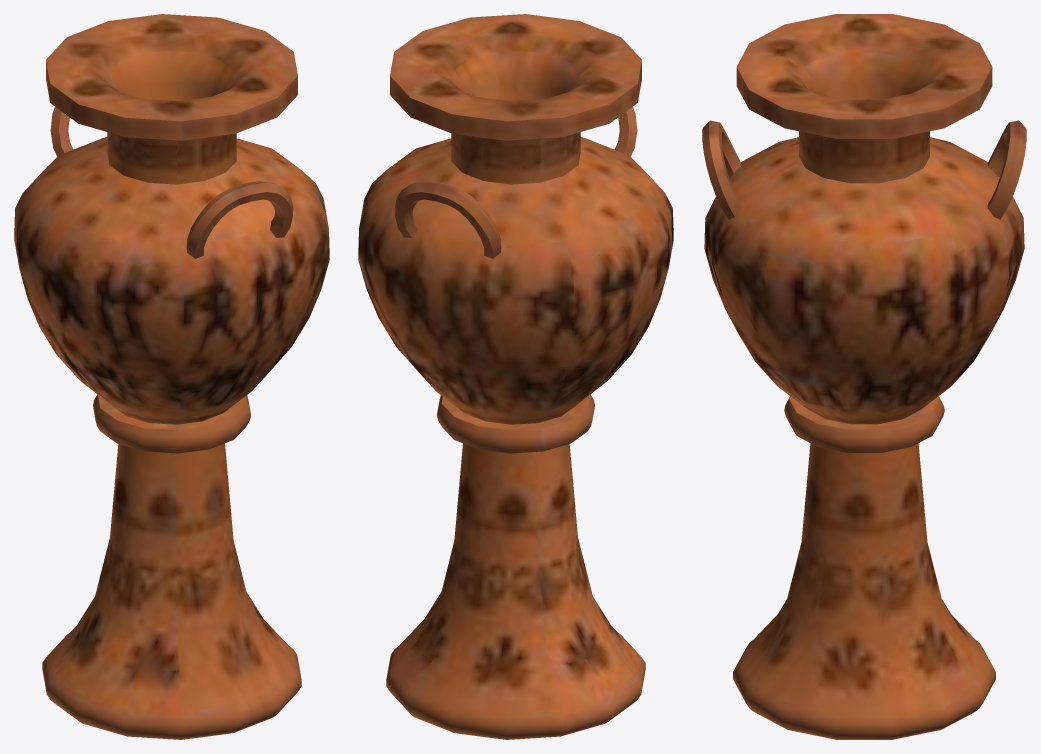
File: SM_vase_03.glb
3 views of the same model, side by side, from view 1: azimuth 30°, elevation 25°; view 2: azimuth 150°, elevation 25°; view 3: azimuth 270°, elevation 25° (orthographic).
Parts seen in each view (by area): view 1: SM_vase_03; view 2: SM_vase_03; view 3: SM_vase_03.
Part boxes in pixels (x1=…): SM_vase_03: x1=14, y1=14, x2=329, y2=739; SM_vase_03: x1=358, y1=14, x2=673, y2=739; SM_vase_03: x1=702, y1=14, x2=1026, y2=739.
Bounding box in the file's own units: 0.4623 × 1.02 × 0.4798.
1 material, 1 textured.
